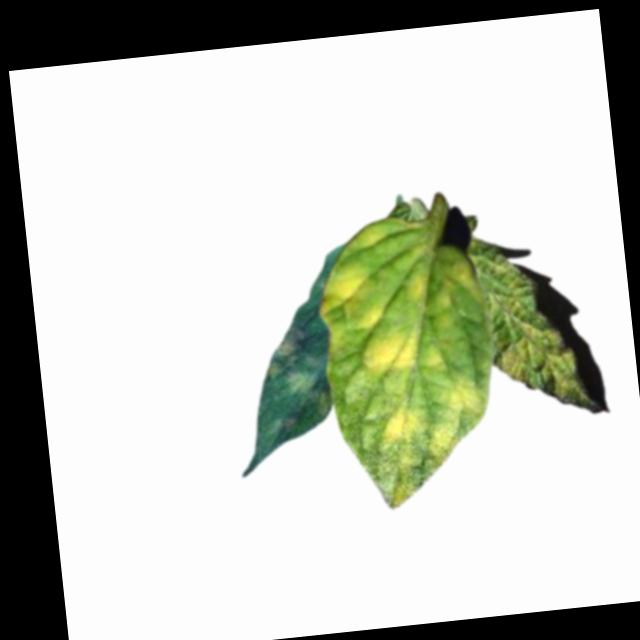Leaf_Mold: (463, 227, 588, 411), (377, 402, 469, 510), (262, 320, 331, 419), (360, 320, 456, 382), (313, 266, 394, 334), (404, 265, 461, 314), (446, 369, 488, 419)
